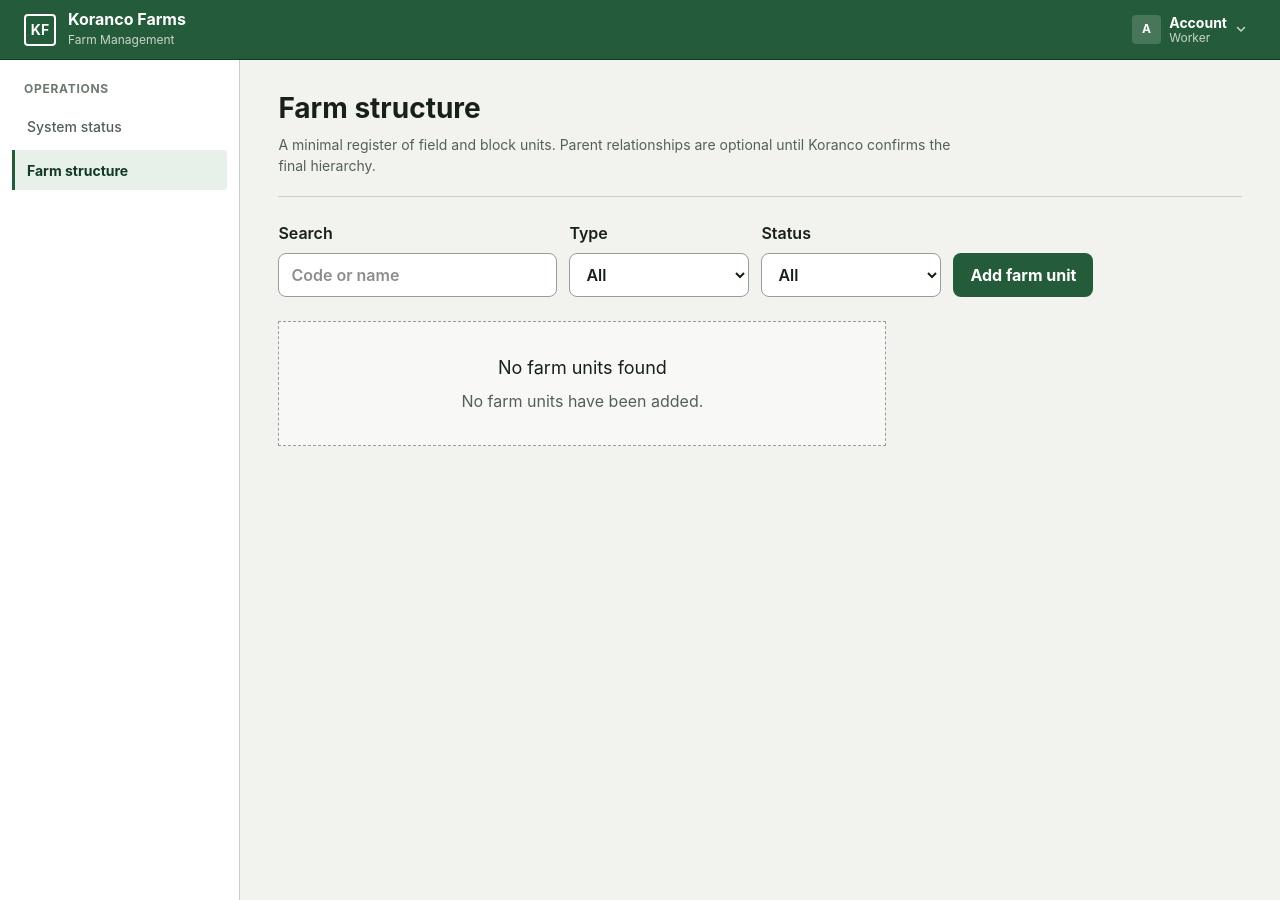
Test: FarmStructureRegister › renders empty and filtered no-results states
The width and height of the screenshot is (1280, 900).
Expected: the text "No farm units have been added." is shown, [462,391,703,411]
Type "west" into the field with placeholder "Code or name" at (418, 275), box [278,253,557,297]
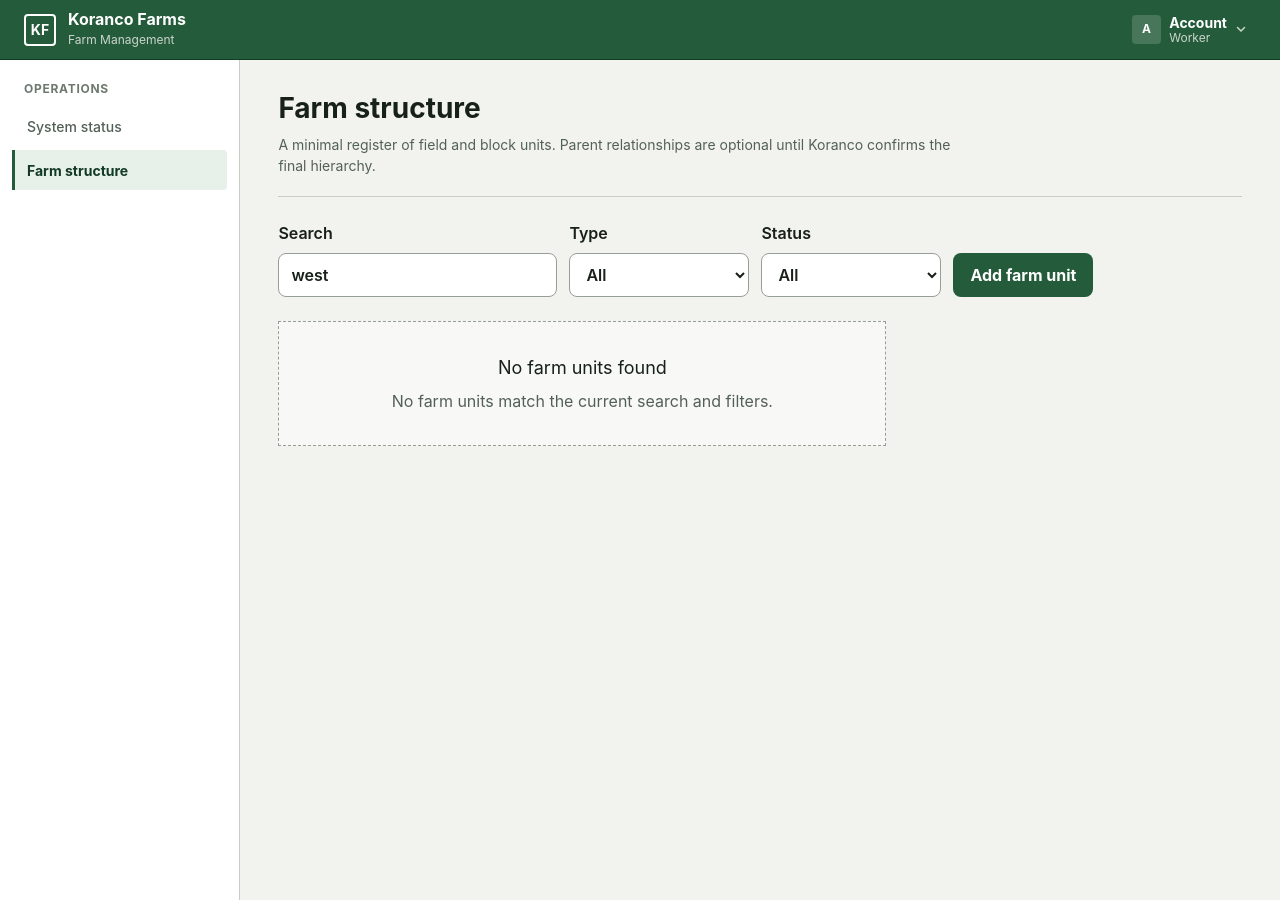
Expected: the text "No farm units match the current search and filters." is shown, [392,391,773,411]
